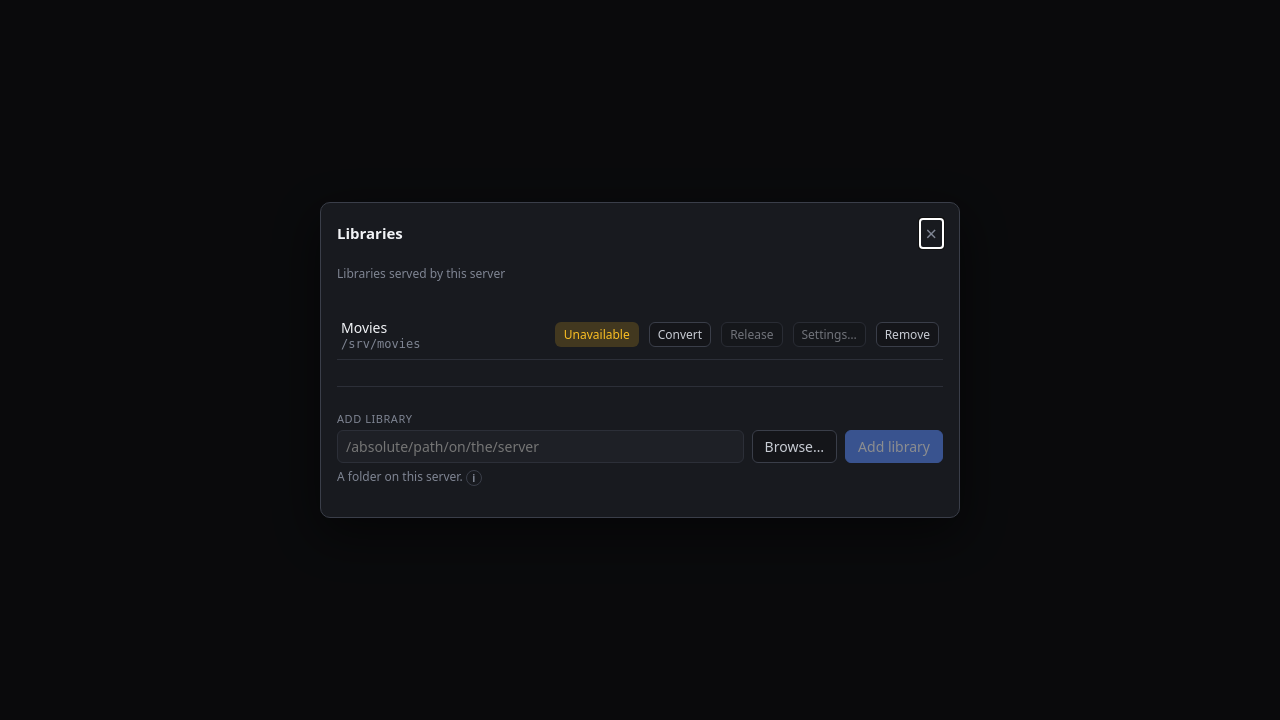
Test: a known old native pick opens conversion review
Check: the button with aria-label "Convert Movies" is shown, box [649, 322, 711, 347]
Click the button "Browse…": (794, 446) [752, 430, 837, 463]
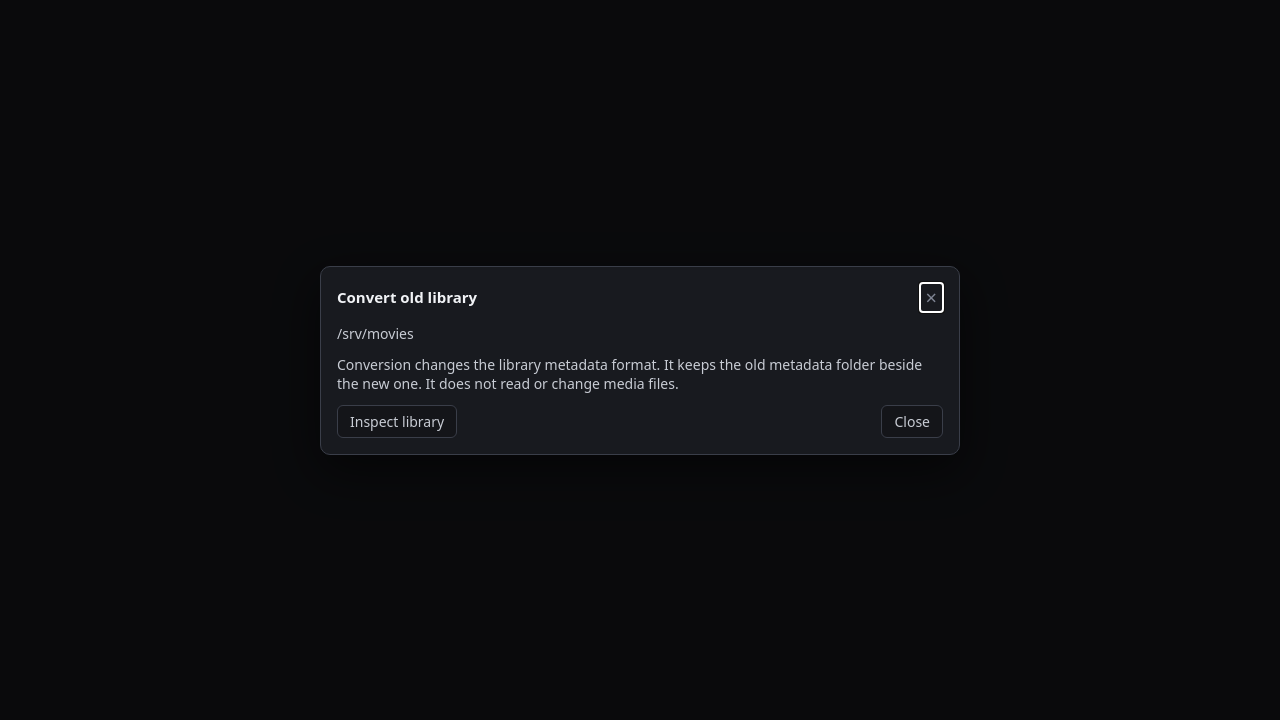
Check: the dialog "Convert old library" is shown, box [320, 266, 960, 454]
